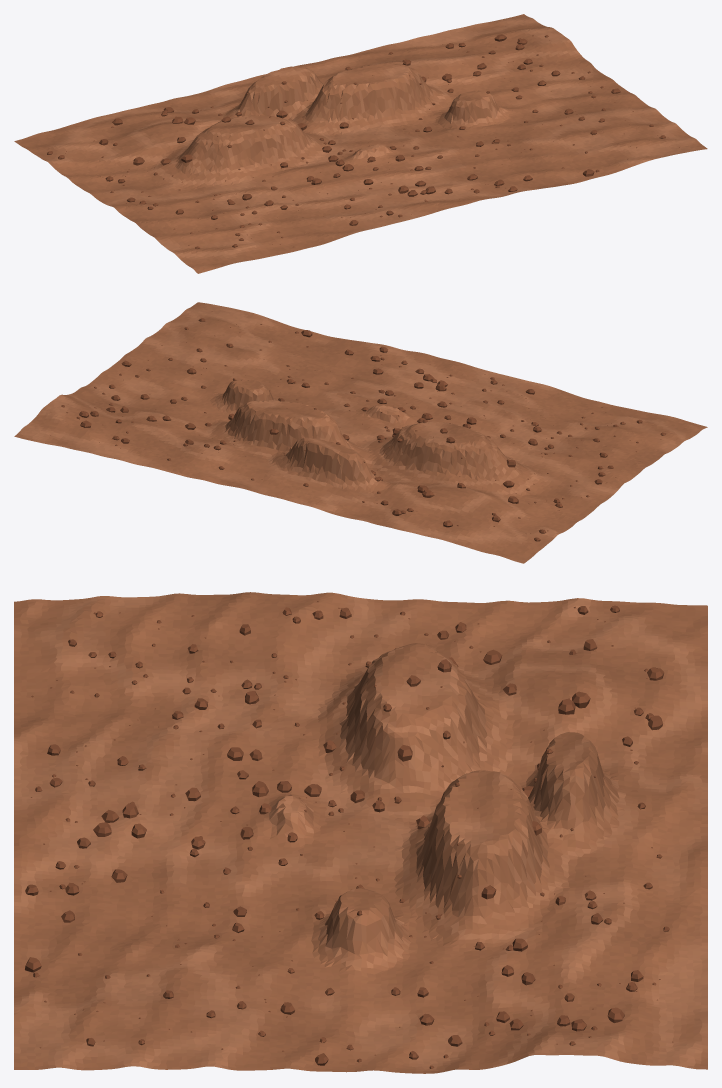
Rendered from mars.glb.
3 renders of one model, top to bottom at view 1: azimuth 30°, elevation 25°; view 2: azimuth 150°, elevation 25°; view 3: azimuth 270°, elevation 25°, orthographic. The views are drawn at different scales.
Visible parts, largest first — view 1: mars terrain; view 2: mars terrain; view 3: mars terrain.
Part boxes in pixels (box(x1,y1,x2,y2)): mars terrain: box(14, 14, 707, 273); mars terrain: box(14, 302, 707, 563); mars terrain: box(14, 592, 707, 1073).
Bounding box in the file's own units: 64 × 5.18 × 40.
